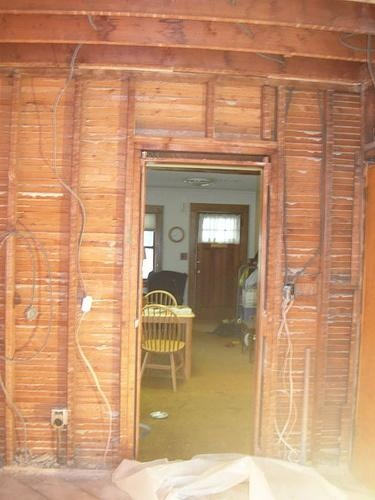chair: (140, 305, 185, 392), (143, 291, 178, 308)
